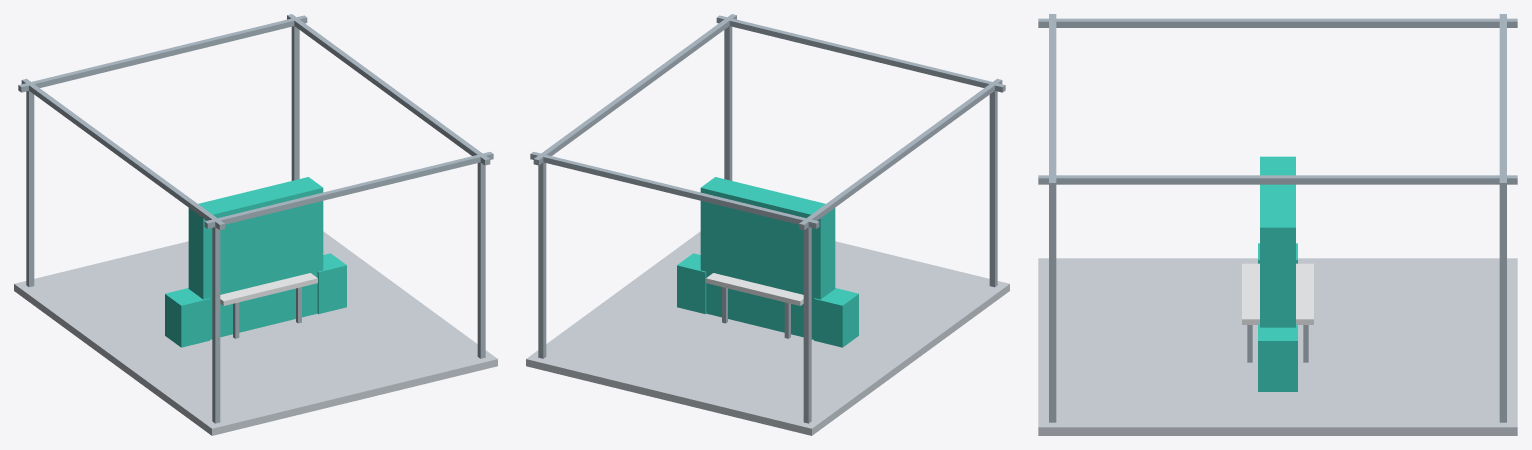
3 renders of one model, left to right at view 1: azimuth 30°, elevation 25°; view 2: azimuth 150°, elevation 25°; view 3: azimuth 270°, elevation 25°, orthographic. The views are drawn at different scales.
Parts seen in each view (by area): view 1: Exhibition Booth Concept; view 2: Exhibition Booth Concept; view 3: Exhibition Booth Concept.
Boxes of the visible parts, x1,y1,x2,y2 form: Exhibition Booth Concept: (14, 14, 497, 435); Exhibition Booth Concept: (526, 14, 1009, 435); Exhibition Booth Concept: (1038, 14, 1517, 435).
Bounding box in the file's own units: 5 × 3.49 × 6.
